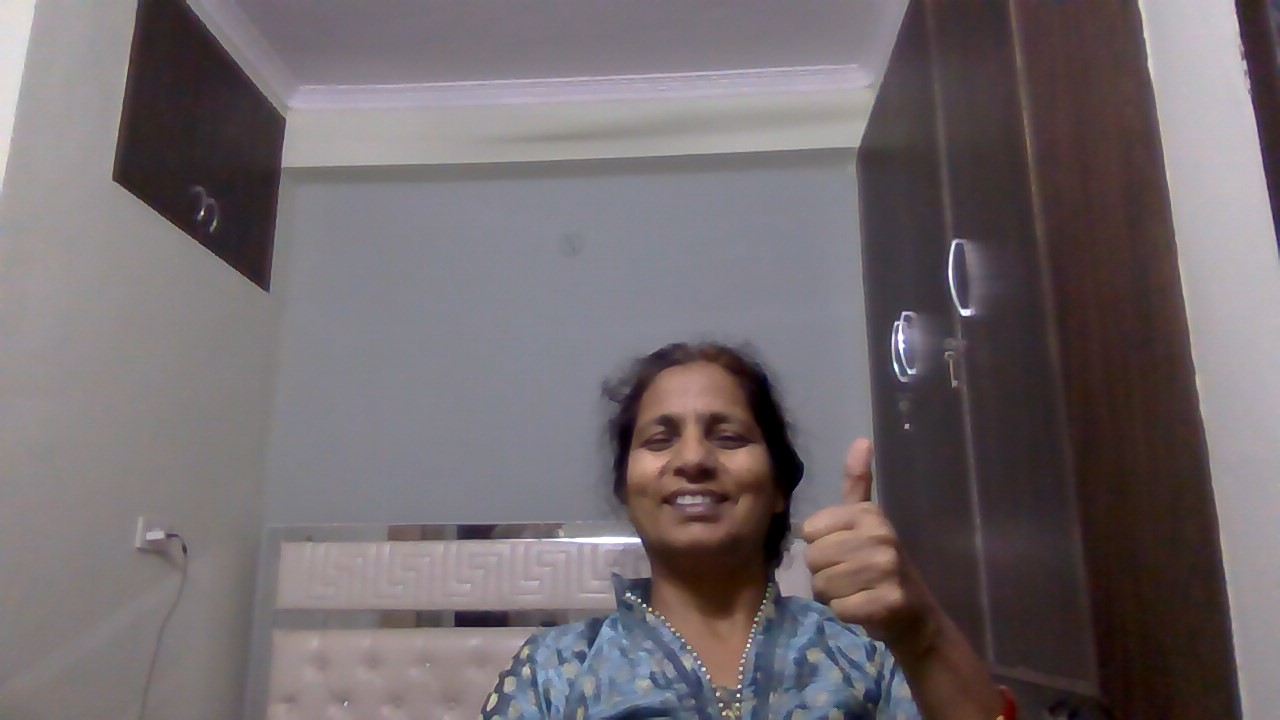Save: (790, 430, 948, 652)
